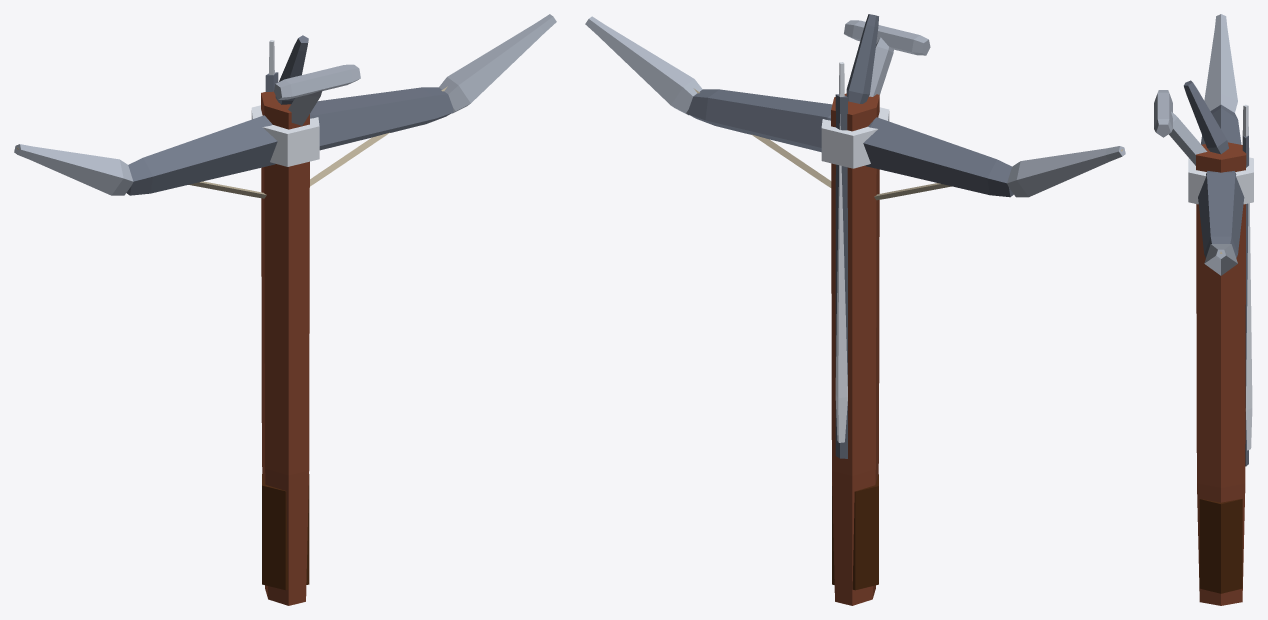
File: wpn_crossbow_4.glb
3 renders of one model, left to right at view 1: azimuth 30°, elevation 25°; view 2: azimuth 150°, elevation 25°; view 3: azimuth 270°, elevation 25°, orthographic. The views are drawn at different scales.
Visible parts, largest first — view 1: wpn_crossbow_4; view 2: wpn_crossbow_4; view 3: wpn_crossbow_4.
Boxes of the visible parts, bbox=[...] form: wpn_crossbow_4: bbox=[14, 14, 556, 605]; wpn_crossbow_4: bbox=[585, 14, 1125, 605]; wpn_crossbow_4: bbox=[1154, 14, 1253, 605].
Bounding box in the file's own units: 0.6853 × 0.6925 × 0.1212.
